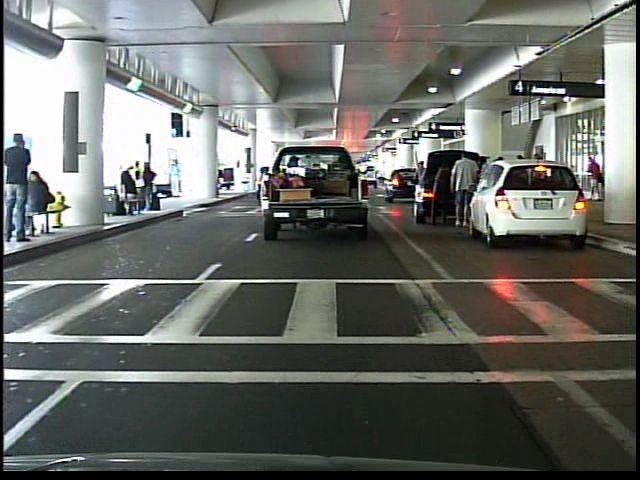person: (6, 132, 39, 247), (451, 148, 479, 231), (427, 157, 457, 230), (582, 154, 607, 204), (412, 157, 430, 213), (169, 157, 186, 200)
